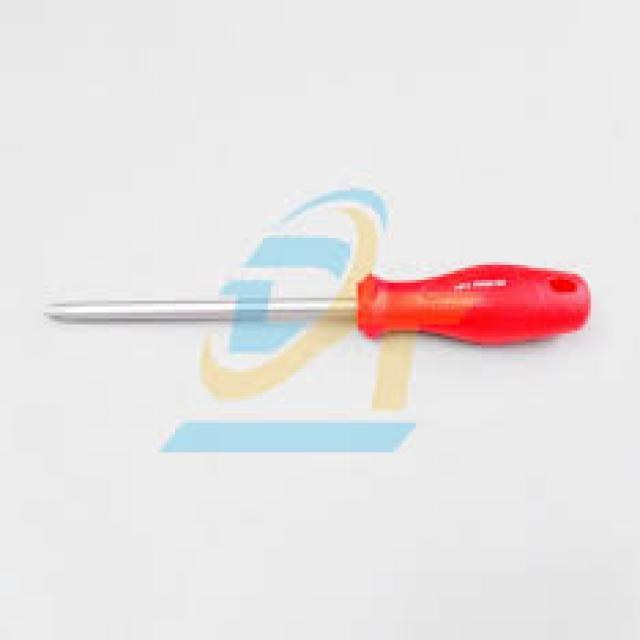screwdriver: (41, 264, 594, 346)
